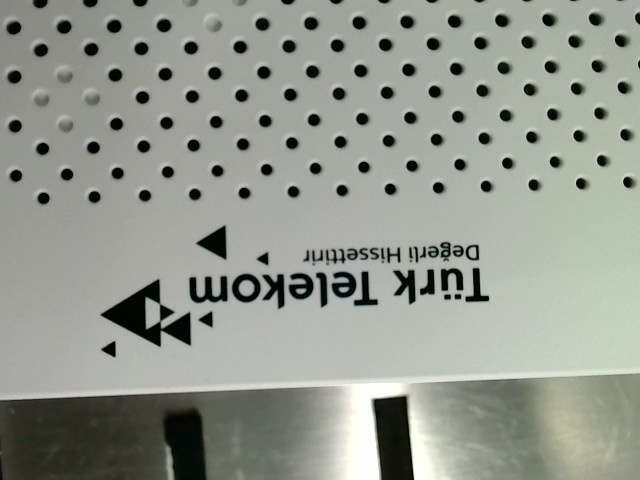AQ_TURKTelekom: (87, 218, 494, 358)
